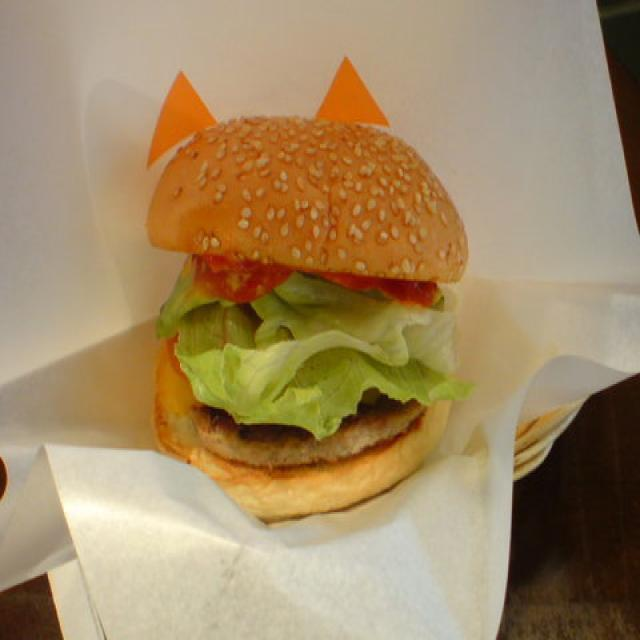Hamburger: (144, 109, 472, 530)
